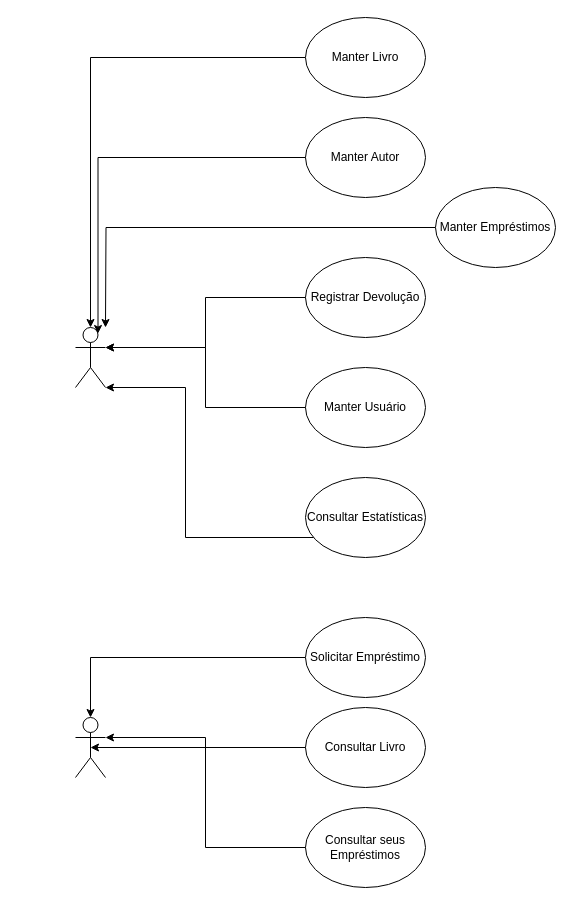
Some shapes in this 573 by 905 pixel diagram are drawn without their labels. The shapes that lost their labels are listed below. From the top down, each one's centre as x and y in pixels, then its label:
At (90,357): "Dono da Biblioteca Pessoal".
At (90,747): "Usuário".
